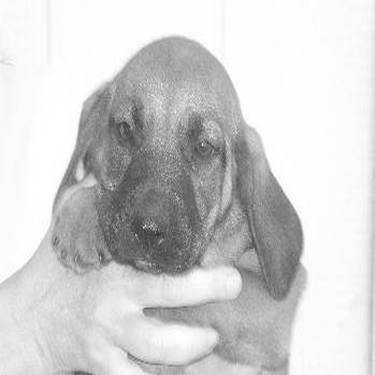dog: (29, 19, 314, 370)
